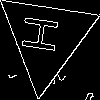H: (21, 13, 67, 56)
